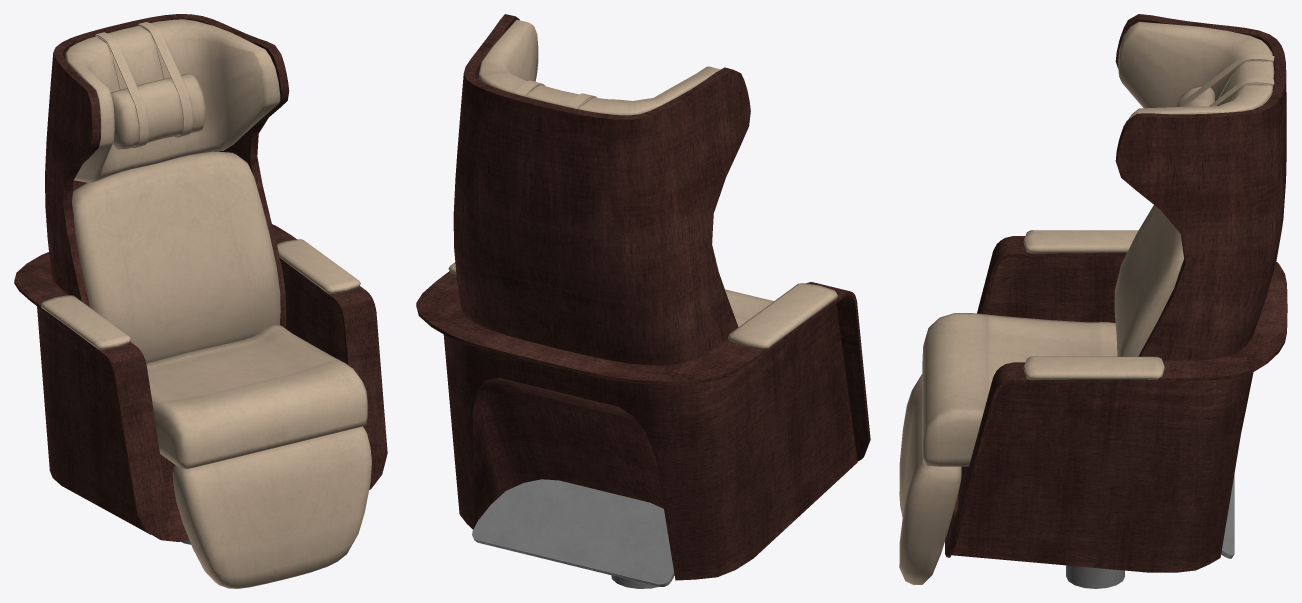
Rendered from FirstClassSeat.fbx.
3 views of the same model, side by side, from view 1: azimuth 30°, elevation 25°; view 2: azimuth 150°, elevation 25°; view 3: azimuth 270°, elevation 25° (orthographic). The views are drawn at different scales.
Visible parts, largest first — view 1: CylinderPart01_lp.001; view 2: CylinderPart01_lp.001; view 3: CylinderPart01_lp.001.
Part boxes in pixels (x1=…): CylinderPart01_lp.001: x1=14, y1=14, x2=387, y2=588; CylinderPart01_lp.001: x1=416, y1=14, x2=870, y2=588; CylinderPart01_lp.001: x1=899, y1=14, x2=1287, y2=588.
Bounding box in the file's own units: 77.13 × 127 × 87.28.
